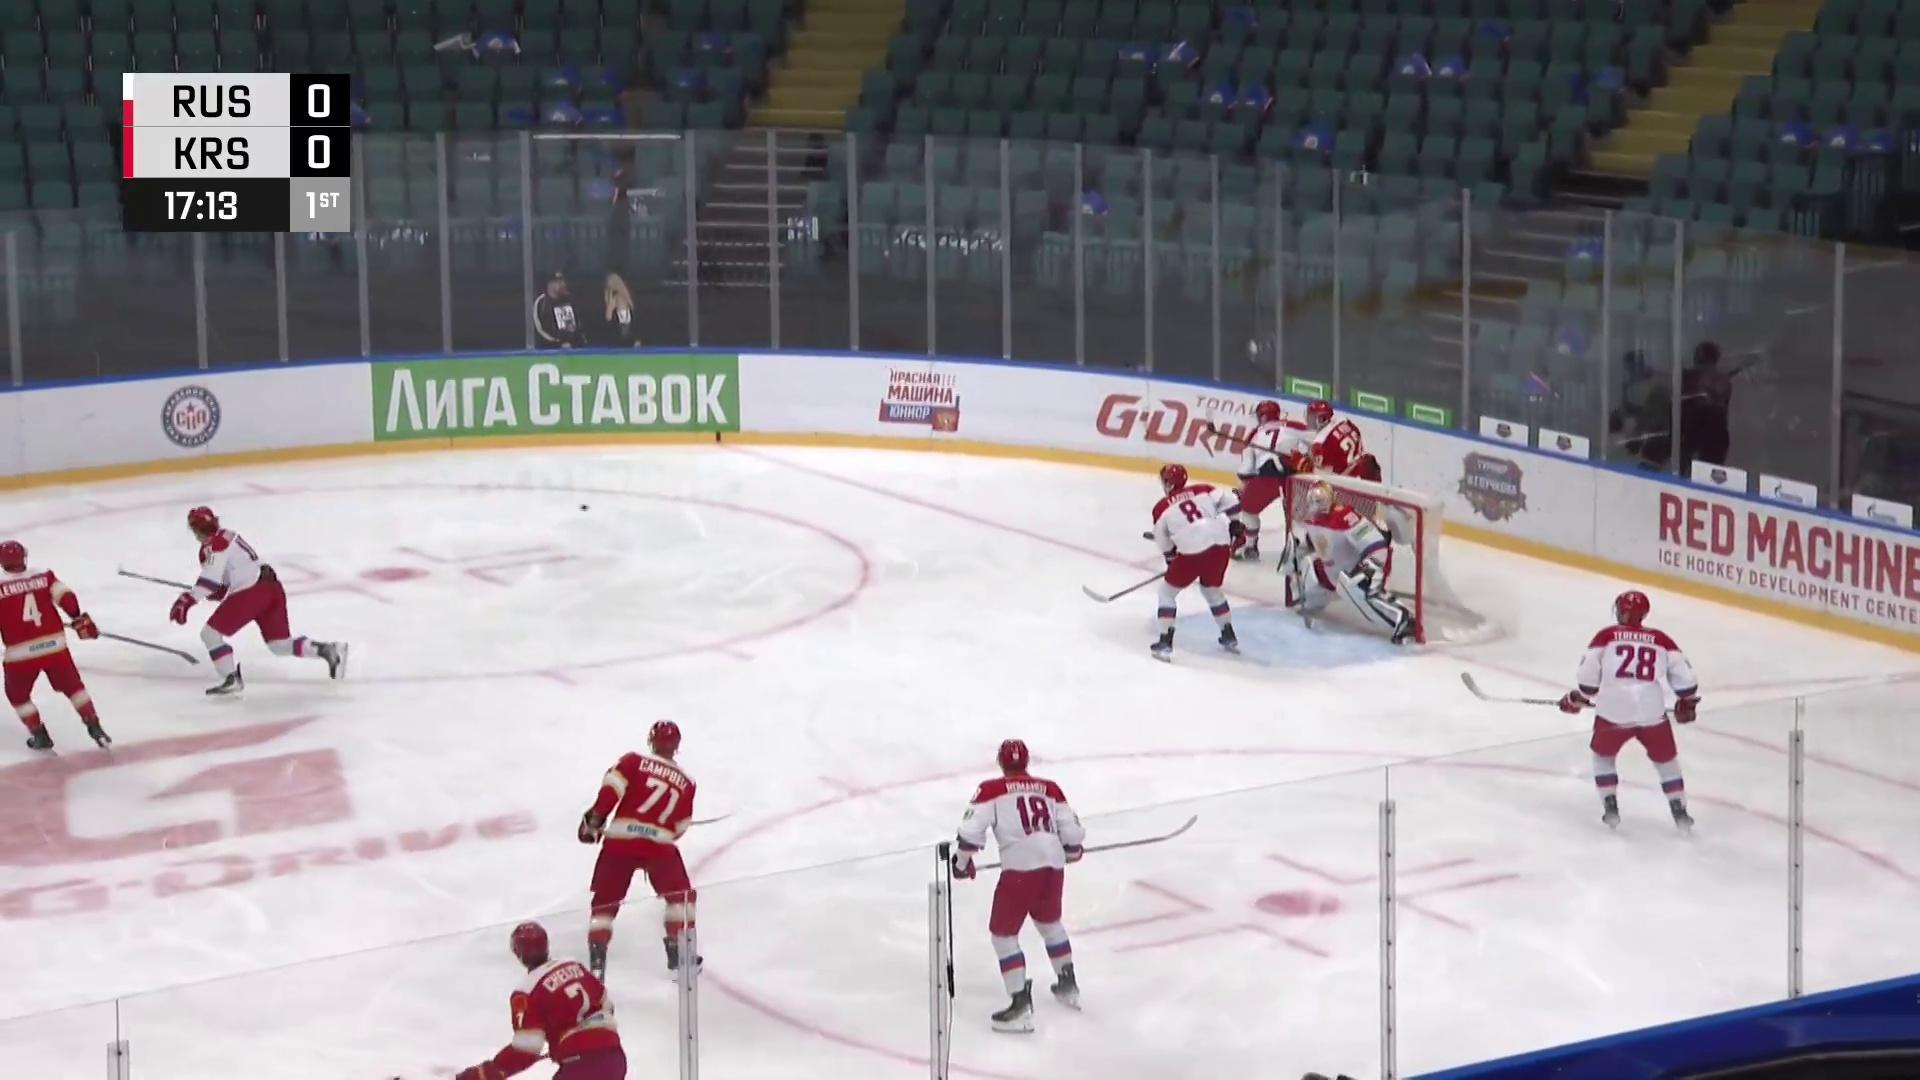ball: (579, 504, 589, 512)
